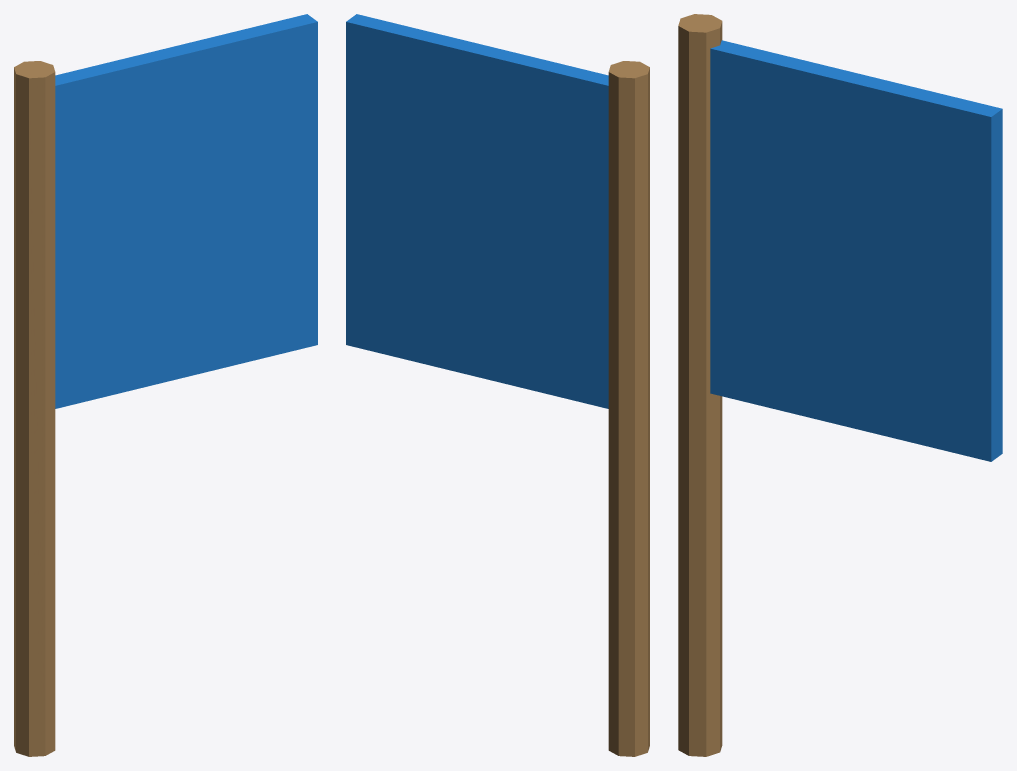
The model's file is city-module-banner-lod1.glb.
3 views of the same model, side by side, from view 1: azimuth 30°, elevation 25°; view 2: azimuth 150°, elevation 25°; view 3: azimuth 330°, elevation 25° (orthographic). The views are drawn at different scales.
Parts seen in each view (by area): view 1: module_banner_cloth, module_banner_pole; view 2: module_banner_cloth, module_banner_pole; view 3: module_banner_cloth, module_banner_pole.
Part boxes in pixels (bbox=[...]): module_banner_cloth: bbox=[55, 14, 317, 408]; module_banner_pole: bbox=[14, 61, 55, 756]; module_banner_cloth: bbox=[346, 14, 608, 408]; module_banner_pole: bbox=[608, 61, 649, 756]; module_banner_cloth: bbox=[710, 40, 1002, 461]; module_banner_pole: bbox=[678, 14, 722, 756].
Size of the model in its own units: 0.192 by 0.42 by 0.024.
